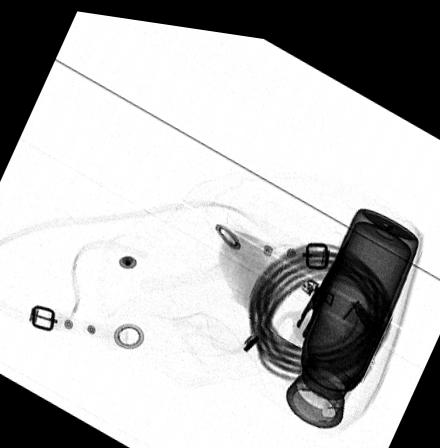Scissors: (264, 223, 353, 381)
